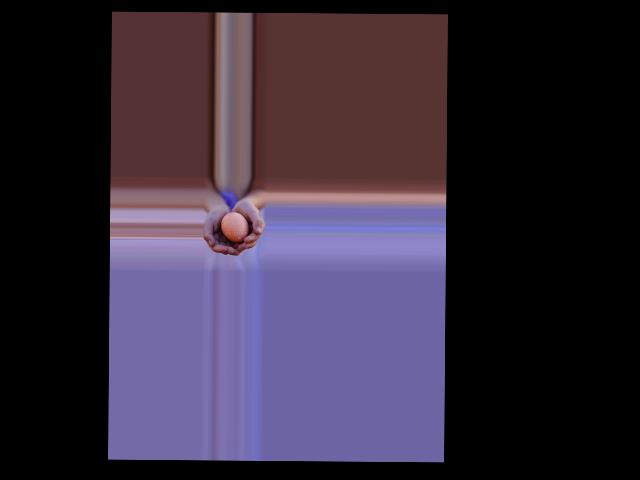egg: (220, 211, 248, 242)
